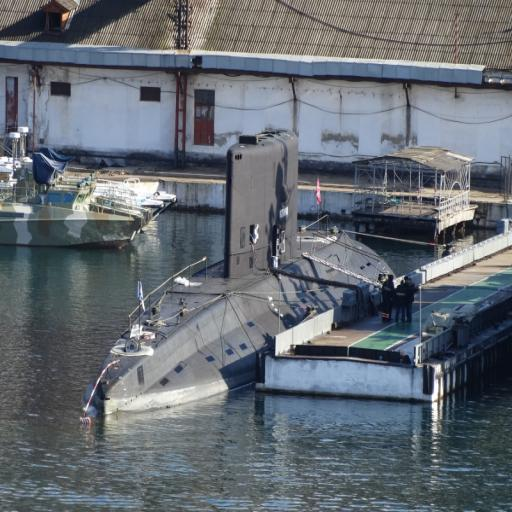submarine: (83, 130, 397, 427)
